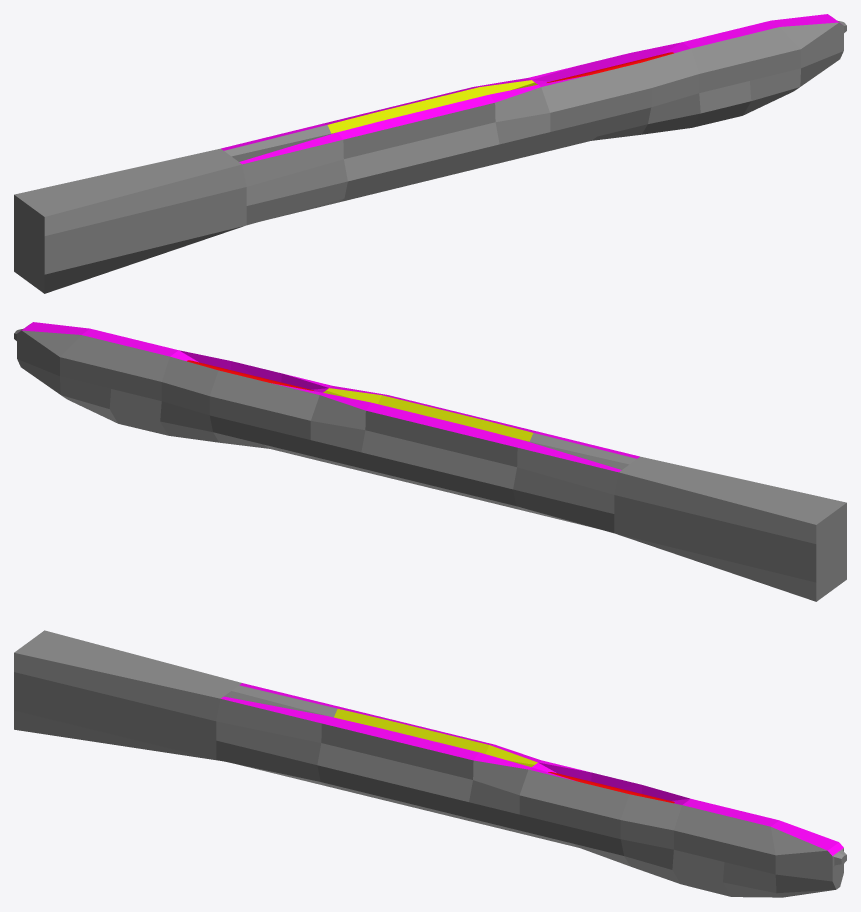
Rendered from LaserShotgun.fbx.
3 renders of one model, top to bottom at view 1: azimuth 30°, elevation 25°; view 2: azimuth 150°, elevation 25°; view 3: azimuth 330°, elevation 25°, orthographic.
Parts seen in each view (by area): view 1: Cube; view 2: Cube; view 3: Cube.
Part boxes in pixels (bbox=[...]): Cube: bbox=[14, 14, 846, 293]; Cube: bbox=[14, 322, 846, 601]; Cube: bbox=[14, 630, 846, 897].
Bounding box in the file's own units: 222 × 21.46 × 14.4.
